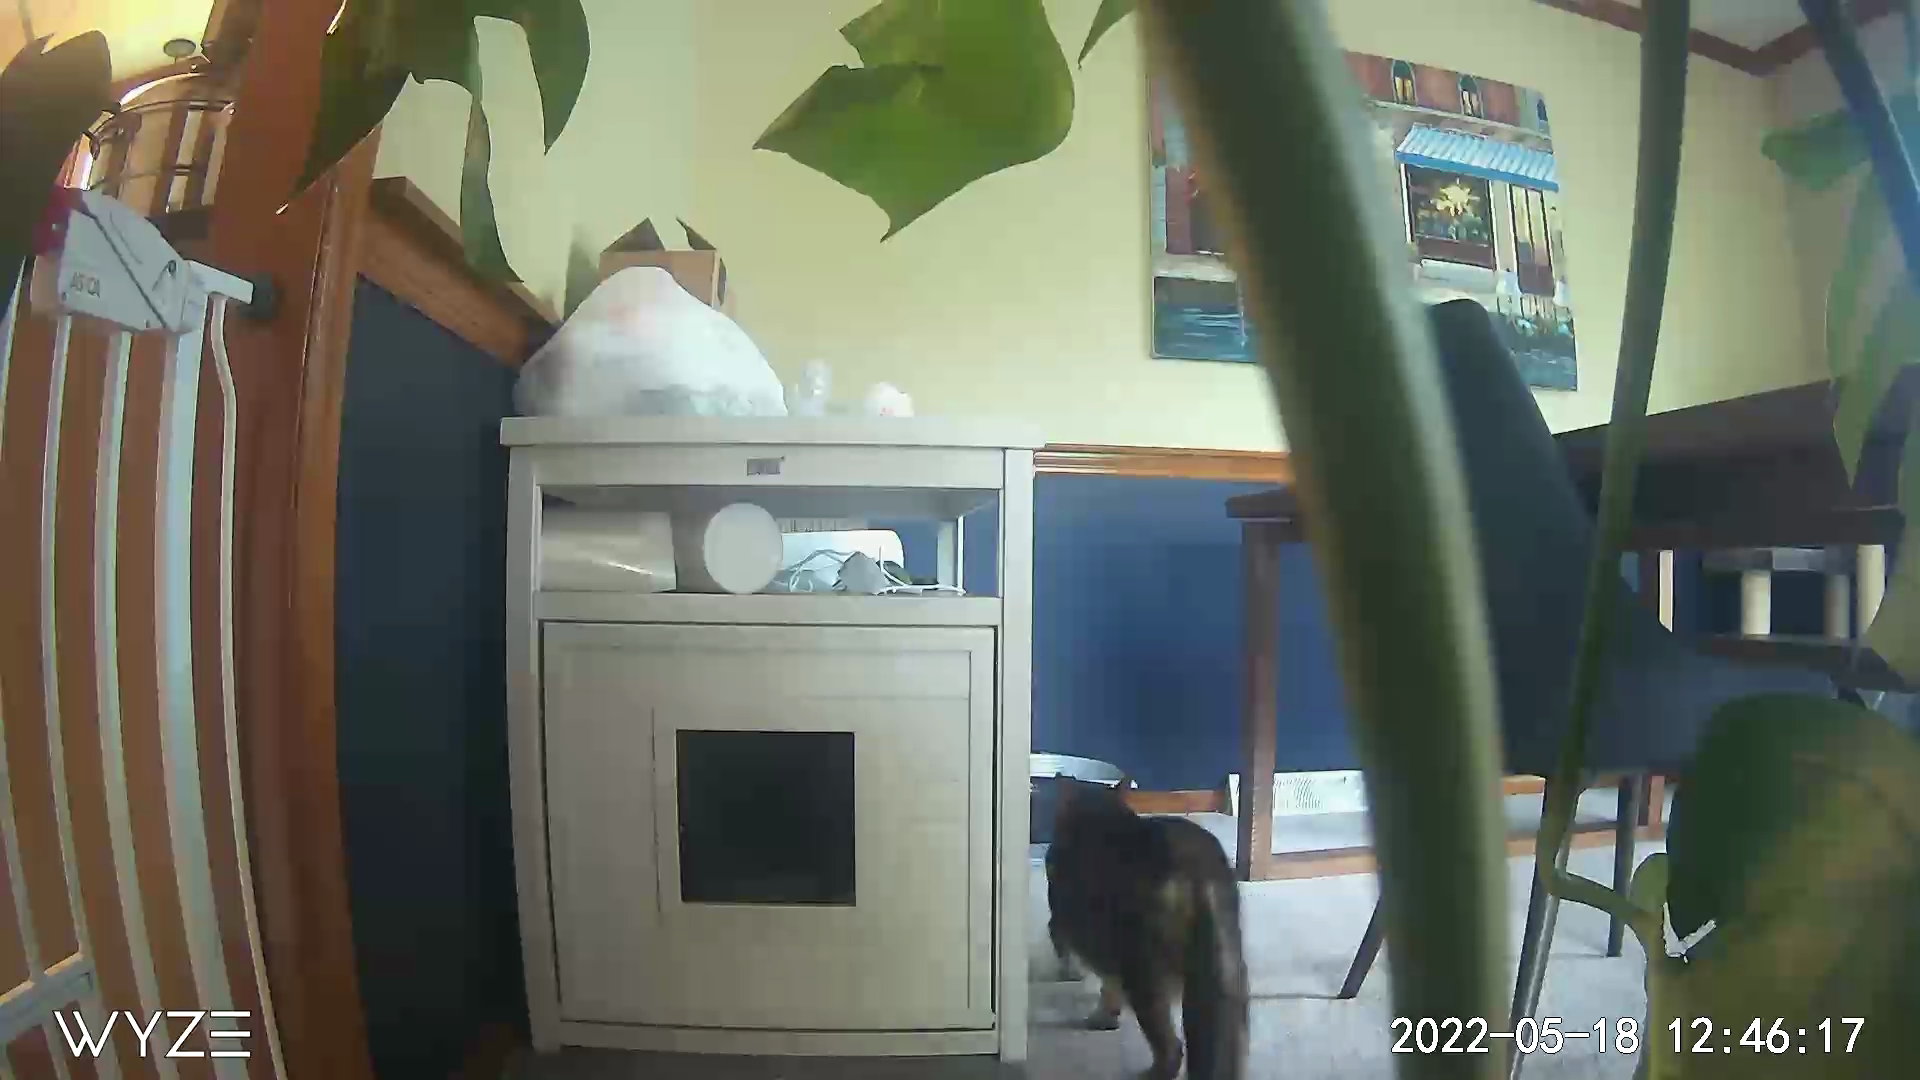sparky: (1029, 778, 1271, 1080)
